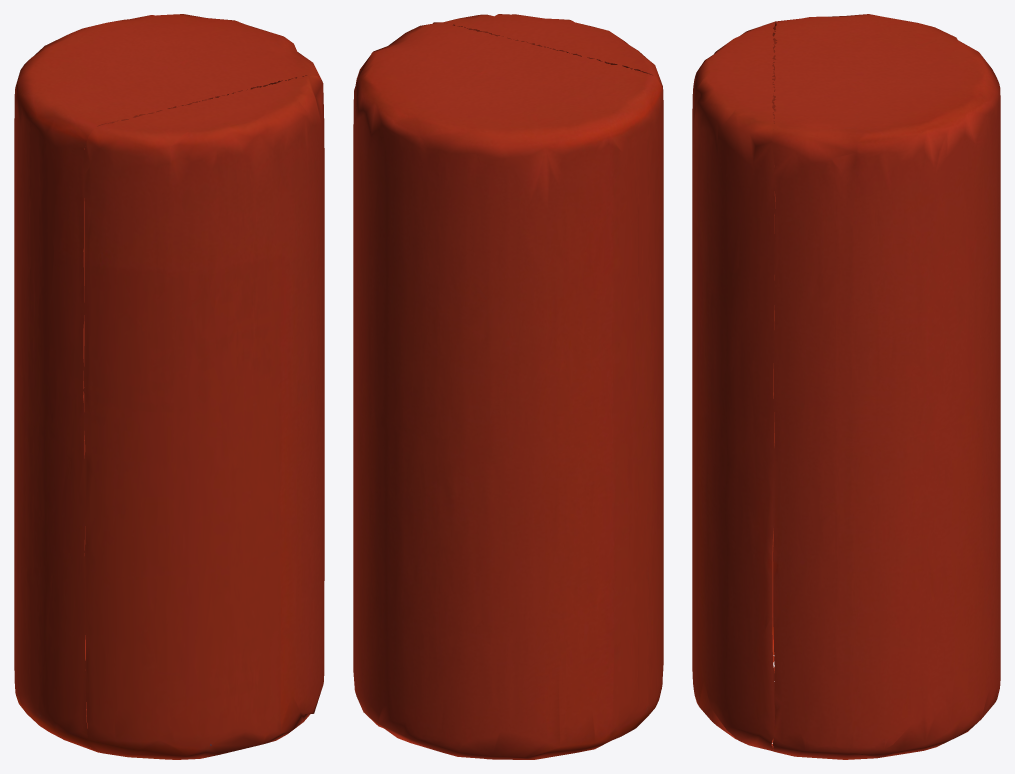
Rendered from block4_cylinder.glb.
3 views of the same model, side by side, from view 1: azimuth 30°, elevation 25°; view 2: azimuth 150°, elevation 25°; view 3: azimuth 270°, elevation 25° (orthographic).
Parts seen in each view (by area): view 1: tripo_part_4, tripo_part_0; view 2: tripo_part_0, tripo_part_4; view 3: tripo_part_0, tripo_part_4.
Part boxes in pixels (box(x1,y1,x2,y2)): tripo_part_4: box(83, 75, 324, 759); tripo_part_0: box(14, 14, 322, 752); tripo_part_0: box(353, 22, 663, 759); tripo_part_4: box(433, 14, 663, 688); tripo_part_0: box(772, 14, 1000, 759); tripo_part_4: box(692, 21, 776, 751).
Bounding box in the file's own units: 0.2074 × 0.463 × 0.206.
Materials: 2 (2 with a texture image).
